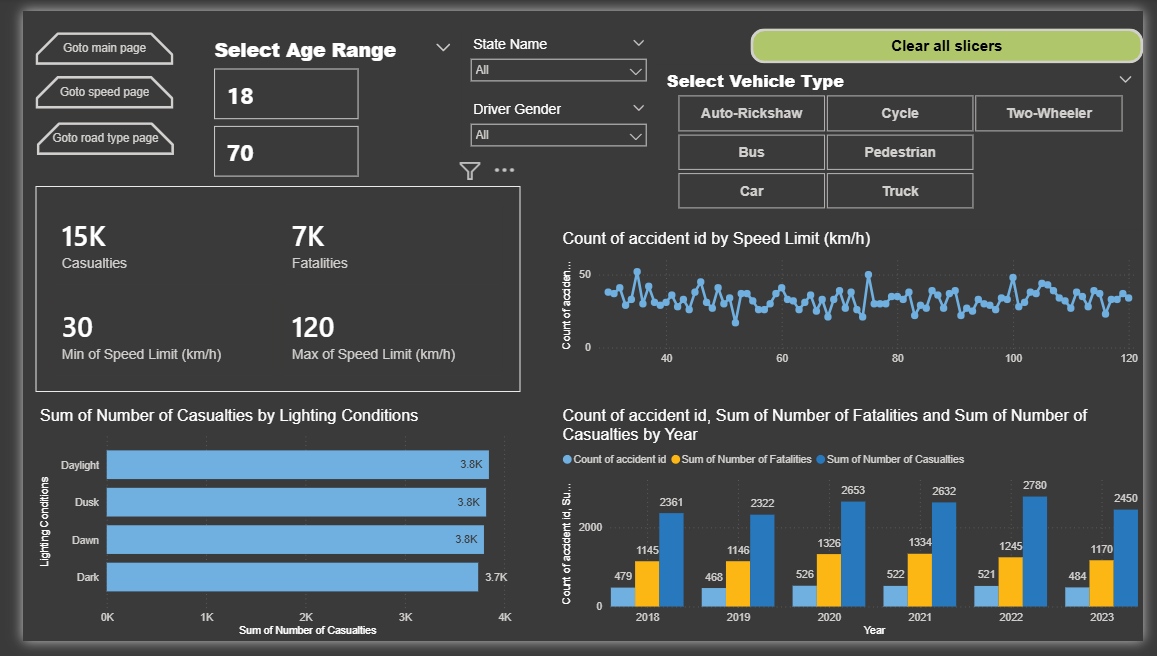

What the dashboard file says about the page in this screenshot:
{"tool":"powerbi","page":{"name":"AGE ","canvas":[1280,720],"ordinal":2},"visuals":[{"type":"slicer","fields":{"Values":["accident_prediction_india.Vehicle Type Involved"]},"box":[722.7,61.5,557.4,171.3],"z":0},{"type":"barChart","fields":{"Y":["Sum(accident_prediction_india.Number of Casualties)"],"Category":["accident_prediction_india.Lighting Conditions"]},"box":[14.9,452,553.8,268.2],"z":1000},{"type":"slicer","fields":{"Values":["accident_prediction_india.Driver Age"]},"box":[206.1,23.6,295.5,176.3],"z":2000},{"type":"cardVisual","fields":{"Data":["Sum(accident_prediction_india.Number of Casualties)","Sum(accident_prediction_india.Number of Fatalities)","Min(accident_prediction_india.Speed Limit (km/h))","Max(accident_prediction_india.Speed Limit (km/h))1"]},"box":[14.9,199.9,553.8,235.9],"z":3000},{"type":"lineChart","fields":{"Category":["accident_prediction_india.Speed Limit (km/h)"],"Y":["CountNonNull(accident_prediction_india.accident id)"]},"box":[611.7,249.7,668.4,162.9],"z":4000},{"type":"clusteredColumnChart","fields":{"Y":["CountNonNull(accident_prediction_india.accident id)","Sum(accident_prediction_india.Number of Fatalities)","Sum(accident_prediction_india.Number of Casualties)"],"Category":["accident_prediction_india.Year"]},"box":[612,452,668,268],"z":5000},{"type":"slicer","fields":{"Values":["accident_prediction_india.State Name"]},"box":[501.7,23.6,221,74.5],"z":6000},{"type":"slicer","fields":{"Values":["accident_prediction_india.Driver Gender"]},"box":[501.7,98.1,221,65.8],"z":7000},{"type":"actionButton","box":[14.9,23.6,157.7,37.3],"z":8000},{"type":"actionButton","box":[14.9,74.5,157.7,37.3],"z":9000},{"type":"actionButton","box":[15.7,126.7,156.8,37.4],"z":9001},{"type":"actionButton","box":[831.2,20.5,448.8,39.8],"z":9002}]}

Visuals, with their boxes in screenshot pixels (x1, y1, x2, y2), scaled from the page's 1280x720 canvas onto the 1157x656 screenshot:
slicer - accident_prediction_india.Vehicle Type Involved: detection(653, 56, 1156, 212)
barChart - Sum(accident_prediction_india.Number of Casualties) x accident_prediction_india.Lighting Conditions: detection(13, 412, 514, 655)
slicer - accident_prediction_india.Driver Age: detection(186, 22, 453, 182)
cardVisual - Sum(accident_prediction_india.Number of Casualties) x Sum(accident_prediction_india.Number of Fatalities): detection(13, 182, 514, 397)
lineChart - accident_prediction_india.Speed Limit (km/h) x CountNonNull(accident_prediction_india.accident id): detection(553, 228, 1156, 376)
clusteredColumnChart - CountNonNull(accident_prediction_india.accident id) x Sum(accident_prediction_india.Number of Fatalities): detection(553, 412, 1156, 655)
slicer - accident_prediction_india.State Name: detection(453, 22, 653, 89)
slicer - accident_prediction_india.Driver Gender: detection(453, 89, 653, 149)
actionButton: detection(13, 22, 156, 55)
actionButton: detection(13, 68, 156, 102)
actionButton: detection(14, 115, 156, 150)
actionButton: detection(751, 19, 1156, 55)
